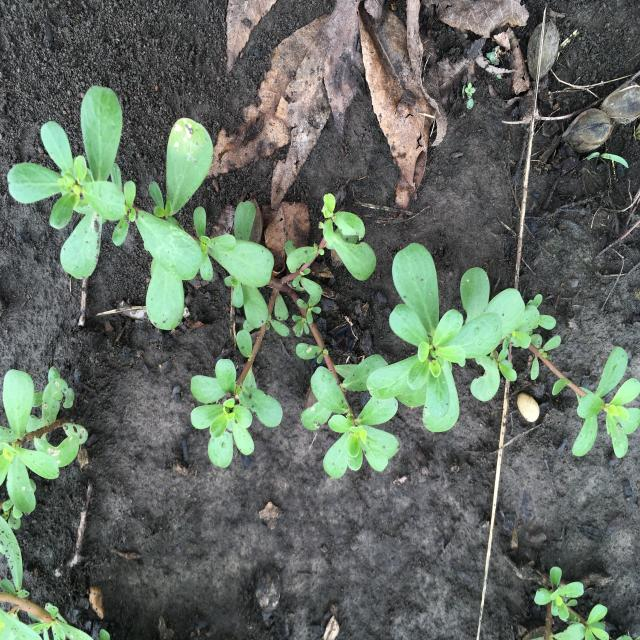Purslane: (7, 85, 400, 479), (366, 241, 640, 458), (0, 365, 88, 529), (0, 517, 93, 639), (534, 566, 632, 640)
